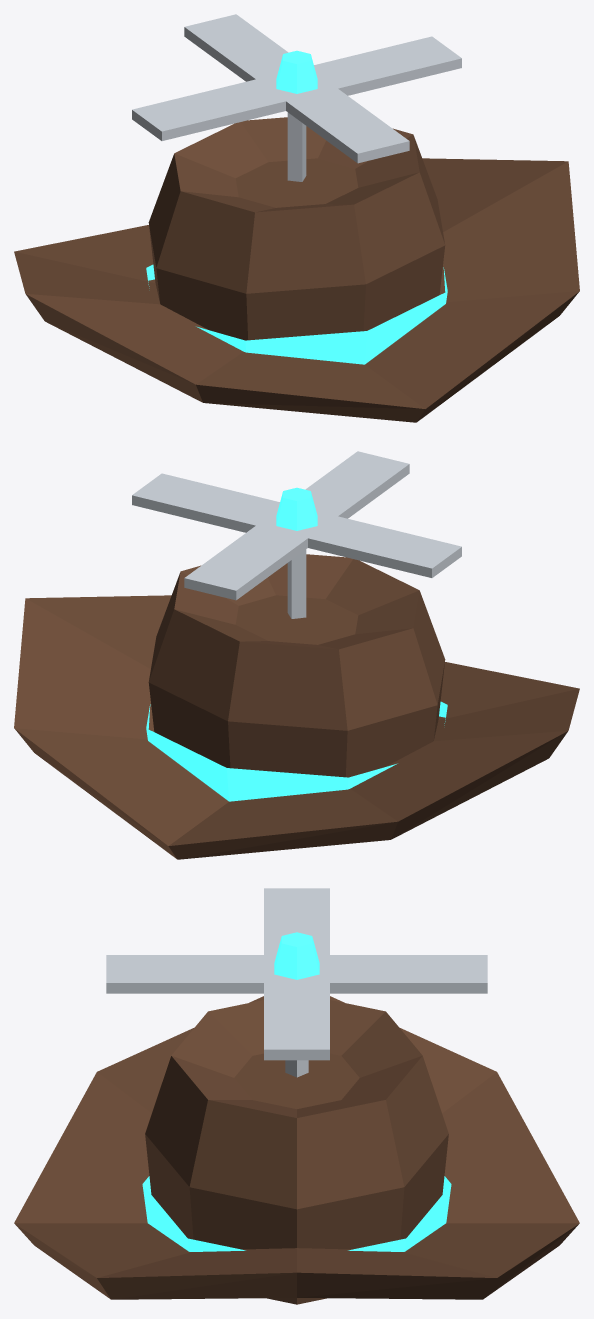
The model's file is Prop_CyberHat_B.fbx.
3 views of the same model, one above another, from view 1: azimuth 30°, elevation 25°; view 2: azimuth 150°, elevation 25°; view 3: azimuth 270°, elevation 25° (orthographic). The views are drawn at different scales.
Visible parts, largest first — view 1: Prop_CyberHat_B_Body, Prop_CyberHat_B_Propeller; view 2: Prop_CyberHat_B_Body, Prop_CyberHat_B_Propeller; view 3: Prop_CyberHat_B_Body, Prop_CyberHat_B_Propeller.
Part boxes in pixels (x1,y1,x2,y2): Prop_CyberHat_B_Body: (14,112,579,422); Prop_CyberHat_B_Propeller: (132,14,461,163); Prop_CyberHat_B_Body: (14,549,579,859); Prop_CyberHat_B_Propeller: (132,451,461,600); Prop_CyberHat_B_Body: (14,996,579,1304); Prop_CyberHat_B_Propeller: (106,888,487,1060).
Size of the model in its own units: 0.4704 by 0.23 by 0.3857.
